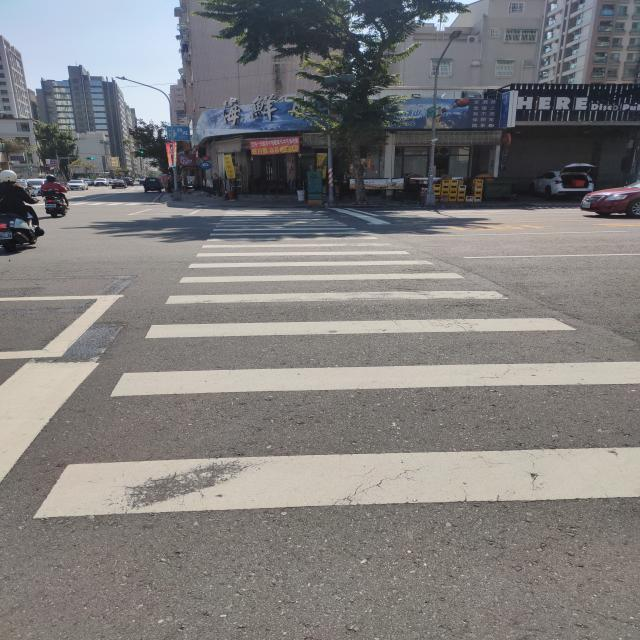zebra_crossing: (481, 257, 640, 471), (0, 103, 99, 308)
